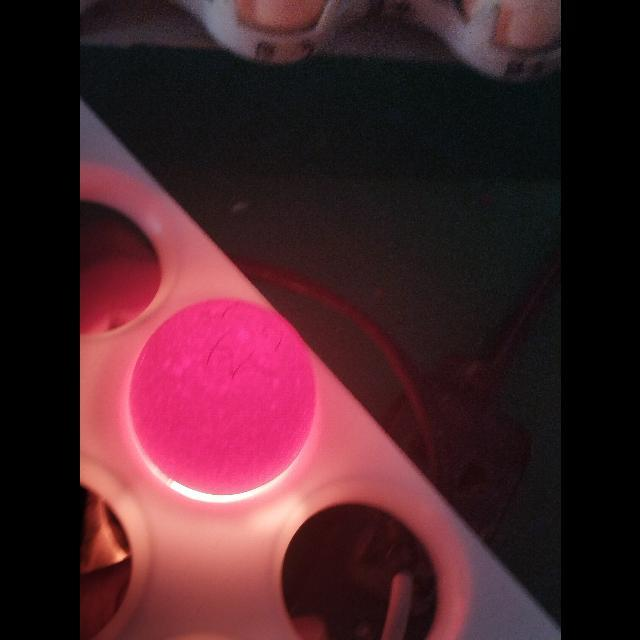Infertile: (126, 296, 320, 494)
